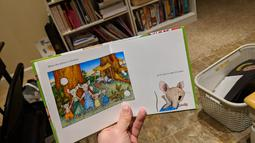text block: (44, 57, 83, 68), (154, 68, 188, 76)
